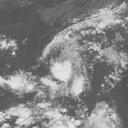cyclone: (49, 59, 74, 84)
